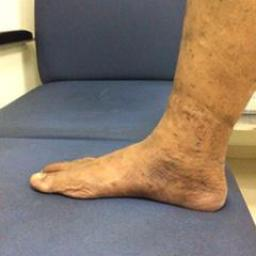Medial View -Right Foot-: (22, 84, 246, 214)
